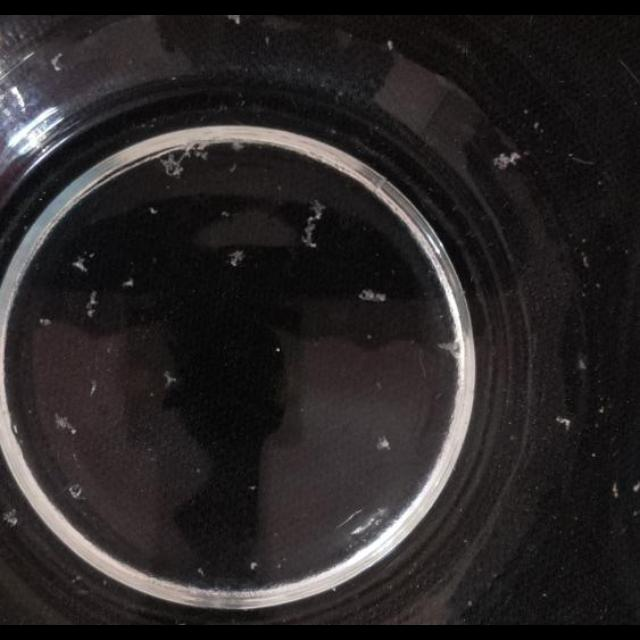Fibre: (300, 200, 326, 248), (160, 153, 188, 179), (53, 412, 77, 436), (494, 152, 520, 170), (84, 292, 100, 318), (358, 289, 386, 303), (71, 255, 89, 273), (227, 250, 245, 268), (308, 200, 326, 218), (2, 509, 18, 527), (191, 145, 209, 161), (163, 371, 177, 389), (51, 54, 65, 72), (228, 15, 242, 25), (231, 141, 245, 151), (582, 252, 590, 268), (38, 318, 52, 327)
microbeads: (554, 415, 570, 429), (70, 484, 84, 500), (376, 436, 390, 450), (90, 381, 98, 397), (577, 358, 587, 370), (122, 278, 134, 288), (220, 210, 230, 218), (148, 207, 158, 215), (533, 120, 541, 130), (228, 162, 236, 172), (374, 381, 382, 391), (386, 40, 394, 50), (13, 424, 19, 436), (250, 562, 258, 570), (197, 568, 205, 576), (248, 484, 256, 492), (635, 481, 640, 492), (598, 405, 604, 413), (594, 282, 600, 290), (366, 334, 372, 341), (523, 108, 529, 115), (591, 453, 597, 459)
